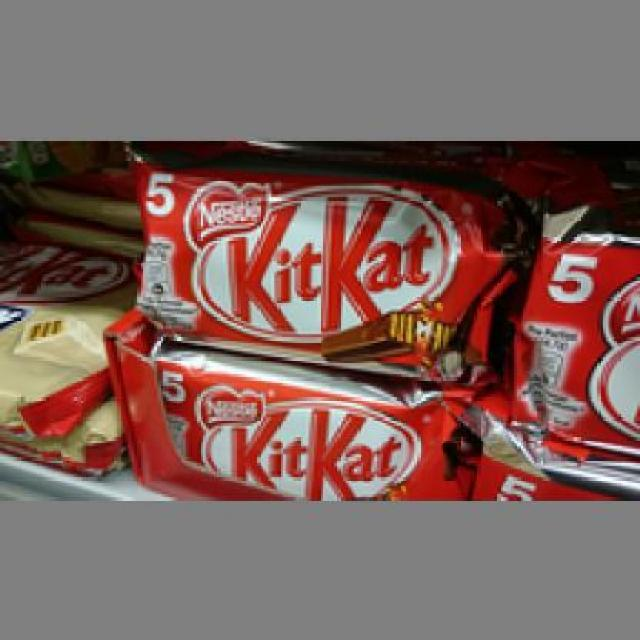Chocolate bar: (124, 163, 488, 374), (134, 343, 463, 494), (512, 215, 636, 452)
